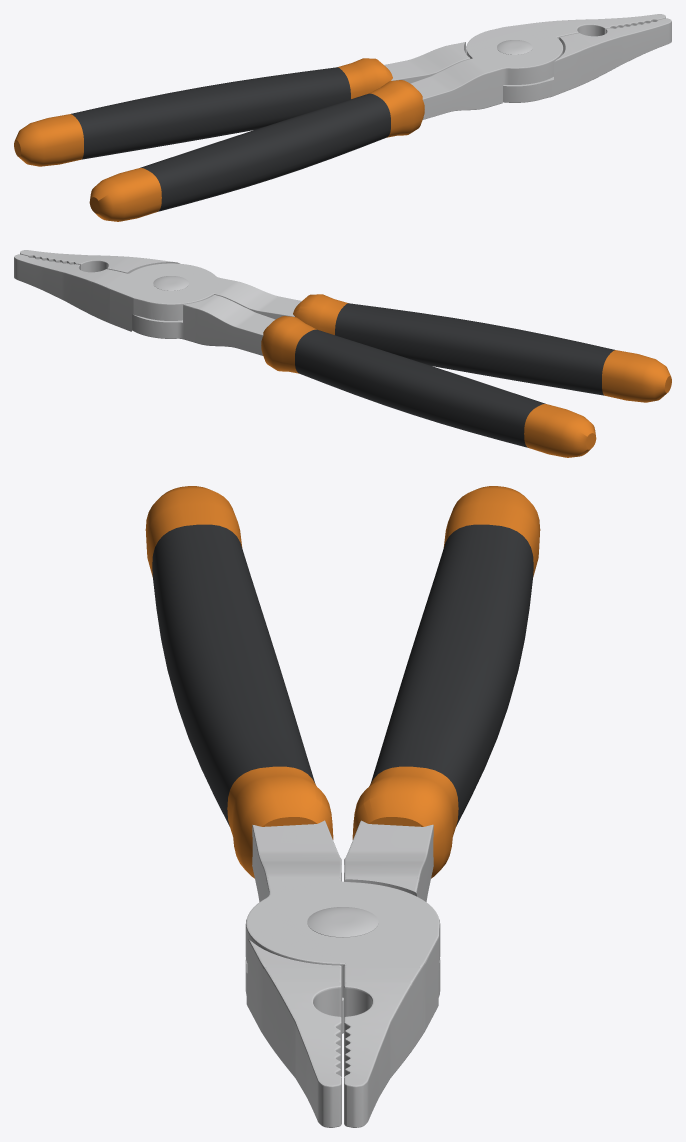
Rendered from alicate-universal.glb.
3 renders of one model, top to bottom at view 1: azimuth 30°, elevation 25°; view 2: azimuth 150°, elevation 25°; view 3: azimuth 270°, elevation 25°, orthographic. The views are drawn at different scales.
Visible parts, largest first — view 1: cabos, articulacao, mordentes, corte; view 2: cabos, articulacao, mordentes, corte; view 3: cabos, articulacao, mordentes, corte.
Boxes of the visible parts, x1,y1,x2,y2 form: cabos: (14,45,490,221); articulacao: (449,22,580,106); mordentes: (559,14,671,79); corte: (542,20,594,85); cabos: (195,281,671,457); articulacao: (106,258,236,342); mordentes: (14,250,126,315); corte: (91,256,144,323); cabos: (145,486,540,901); articulacao: (245,877,440,1035); mordentes: (274,982,411,1127); corte: (263,962,425,1051).
Bounding box in the file's own units: 0.1818 × 0.014 × 0.0507.
